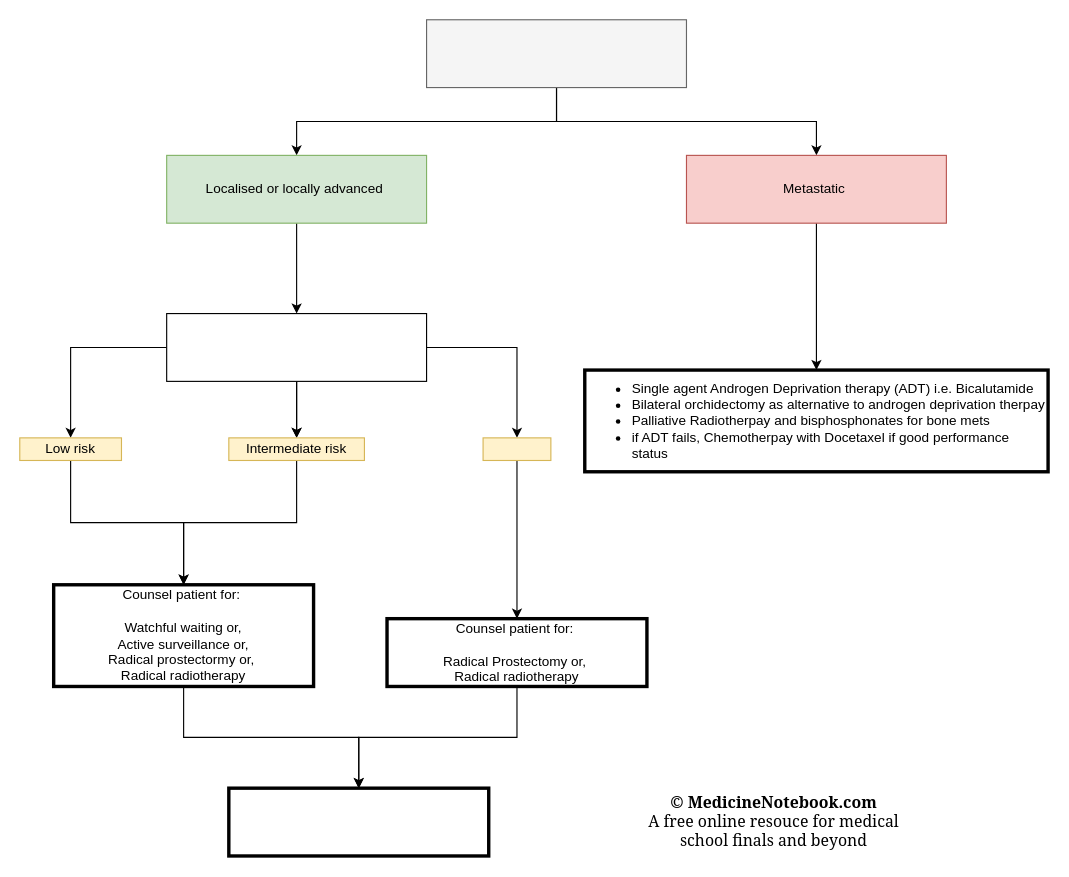
Some shapes in this 1069 by 877 pixel diagram are drawn without their labels. Each missing label, with the box of its shape:
Androgen Deprivation therpay: (227, 786, 490, 857)
High risk: (482, 437, 551, 460)
Management of Prostate cancer: (425, 19, 686, 88)
Risk stratify into: Low risk Intermediate risk High risk: (166, 312, 427, 381)
